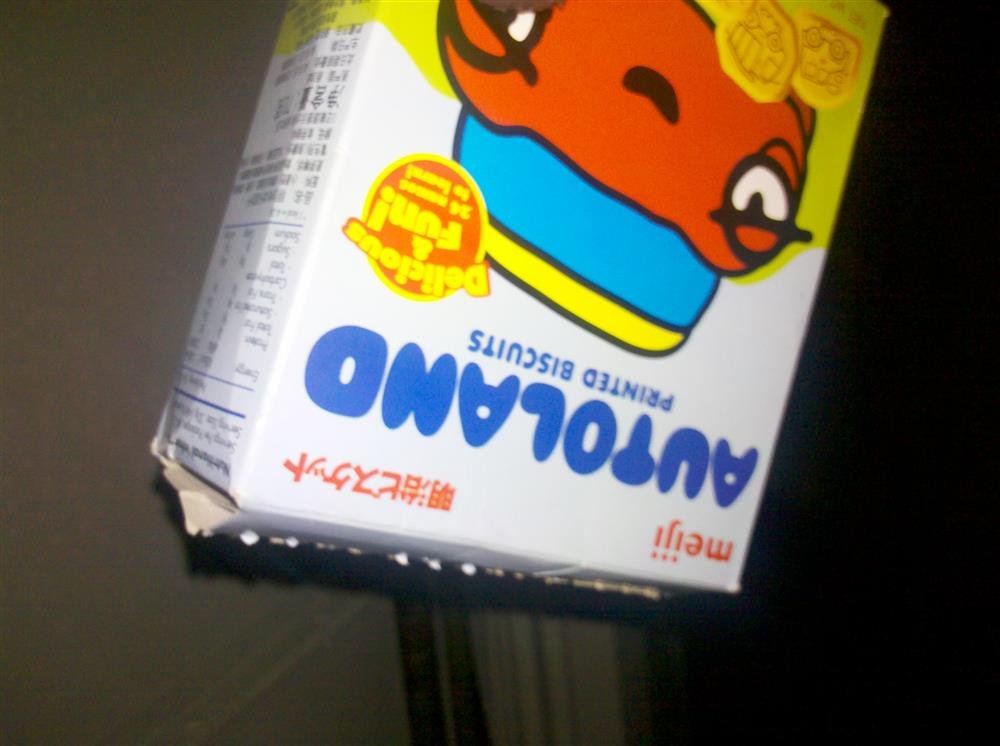Autoland: (149, 1, 921, 578)
